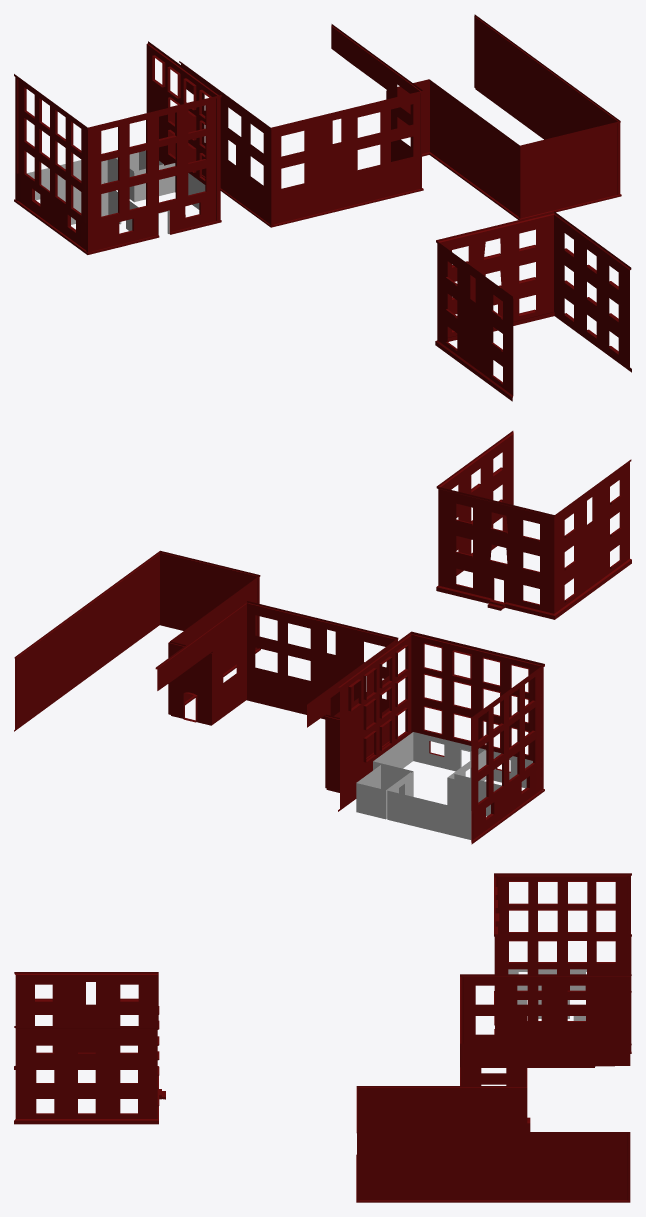
The model's file is RedBuildings.fbx.
The picture shows the model from 3 angles, top to bottom: view 1: azimuth 30°, elevation 25°; view 2: azimuth 150°, elevation 25°; view 3: azimuth 270°, elevation 25°; orthographic projection. The views are drawn at different scales.
Parts seen in each view (by area): view 1: ApartmentBuilding_02_part_02, MainApartmentWall_UV, ApartmentBuilding_06_Base_low; view 2: ApartmentBuilding_02_part_02, MainApartmentWall_UV, ApartmentBuilding_06_Base_low; view 3: ApartmentBuilding_02_part_02, ApartmentBuilding_06_Base_low, MainApartmentWall_UV.
Part boxes in pixels (x1,y1,x2,y2): ApartmentBuilding_02_part_02: (170,14,621,227); MainApartmentWall_UV: (14,41,221,254); ApartmentBuilding_06_Base_low: (435,211,631,401); ApartmentBuilding_02_part_02: (14,550,398,792); MainApartmentWall_UV: (338,631,544,844); ApartmentBuilding_06_Base_low: (436,431,631,619); ApartmentBuilding_02_part_02: (356,974,631,1202); ApartmentBuilding_06_Base_low: (14,972,159,1124); MainApartmentWall_UV: (494,873,631,1053).
Size of the model in its own units: 45.09 by 12 by 55.98.
